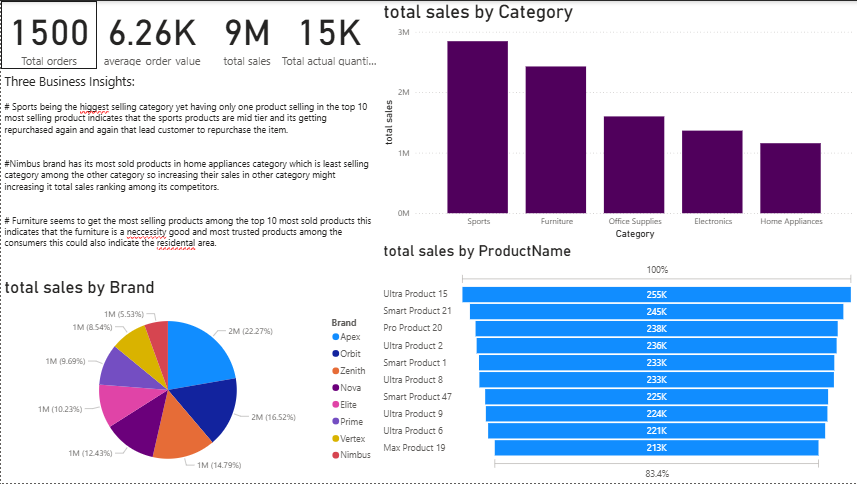

The dashboard page shown, as its layout file describes it:
{"tool":"powerbi","page":{"name":"qn3/product performancr anaylsis","canvas":[1280,720],"ordinal":2},"visuals":[{"type":"card","fields":{"Values":["Orders (1).Total orders"]},"box":[0,0,143.3,136.7],"z":0},{"type":"card","fields":{"Values":["Product.total sales"]},"box":[308.3,0,118.3,136.7],"z":1000},{"type":"card","fields":{"Values":["Orders (1).Total quantity sold"]},"box":[413.3,0,153.3,136.7],"z":2000},{"type":"card","fields":{"Values":["Orders (1).average_order_value"]},"box":[143.3,0,165,136.7],"z":3000},{"type":"lineClusteredColumnComboChart","fields":{"Category":["Product.Category"],"Y":["Product.total sales"]},"box":[566.7,0,713.3,360],"z":4000},{"type":"pieChart","fields":{"Category":["Product.Brand"],"Y":["Product.total sales"]},"box":[0,411.7,566.7,308.3],"z":5000},{"type":"funnel","fields":{"Category":["Product.ProductName"],"Y":["Product.total sales"]},"box":[566.7,360,713.3,360],"z":6000},{"type":"textbox","box":[0,136.7,566.7,275],"z":7000}]}

Visuals, with their boxes in screenshot pixels (x1, y1, x2, y2), scaled from the page's 1280x720 canvas onto the 857x484 screenshot:
card - Orders (1).Total orders: select_region(0, 0, 96, 92)
card - Product.total sales: select_region(206, 0, 286, 92)
card - Orders (1).Total quantity sold: select_region(277, 0, 379, 92)
card - Orders (1).average_order_value: select_region(96, 0, 206, 92)
lineClusteredColumnComboChart - Product.Category x Product.total sales: select_region(379, 0, 856, 242)
pieChart - Product.Brand x Product.total sales: select_region(0, 277, 379, 483)
funnel - Product.ProductName x Product.total sales: select_region(379, 242, 856, 483)
textbox: select_region(0, 92, 379, 277)
